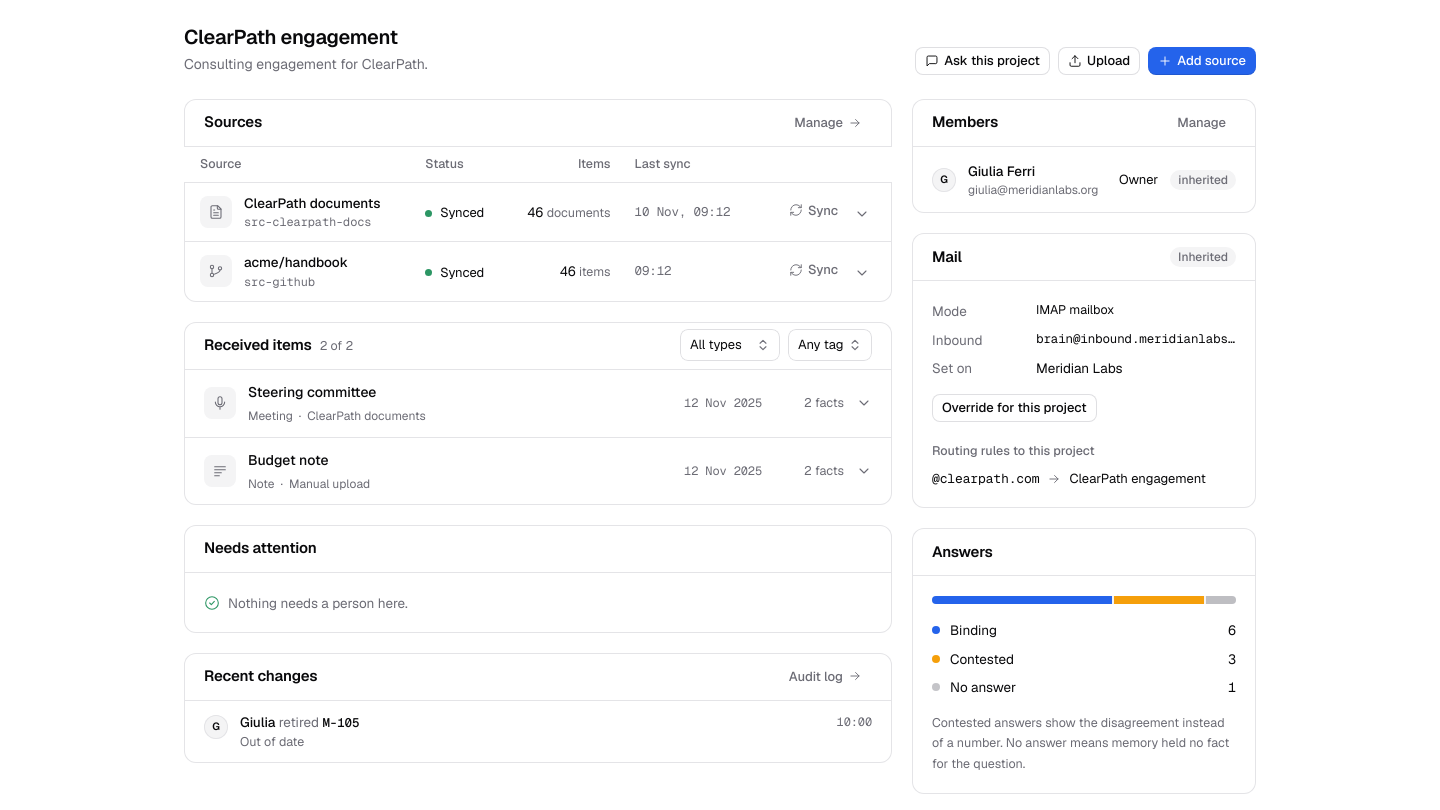
Test: Project › upload and add source › opens the add source dialog for the project, and closes it with Escape
expect the heading "ClearPath engagement" is shown: met, box [184,24,428,50]
expect the text "src-clearpath-docs" is shown: met, box [244,213,380,231]
Click the button "Add source". click: (1202, 61)
box: [1148,47,1256,75]
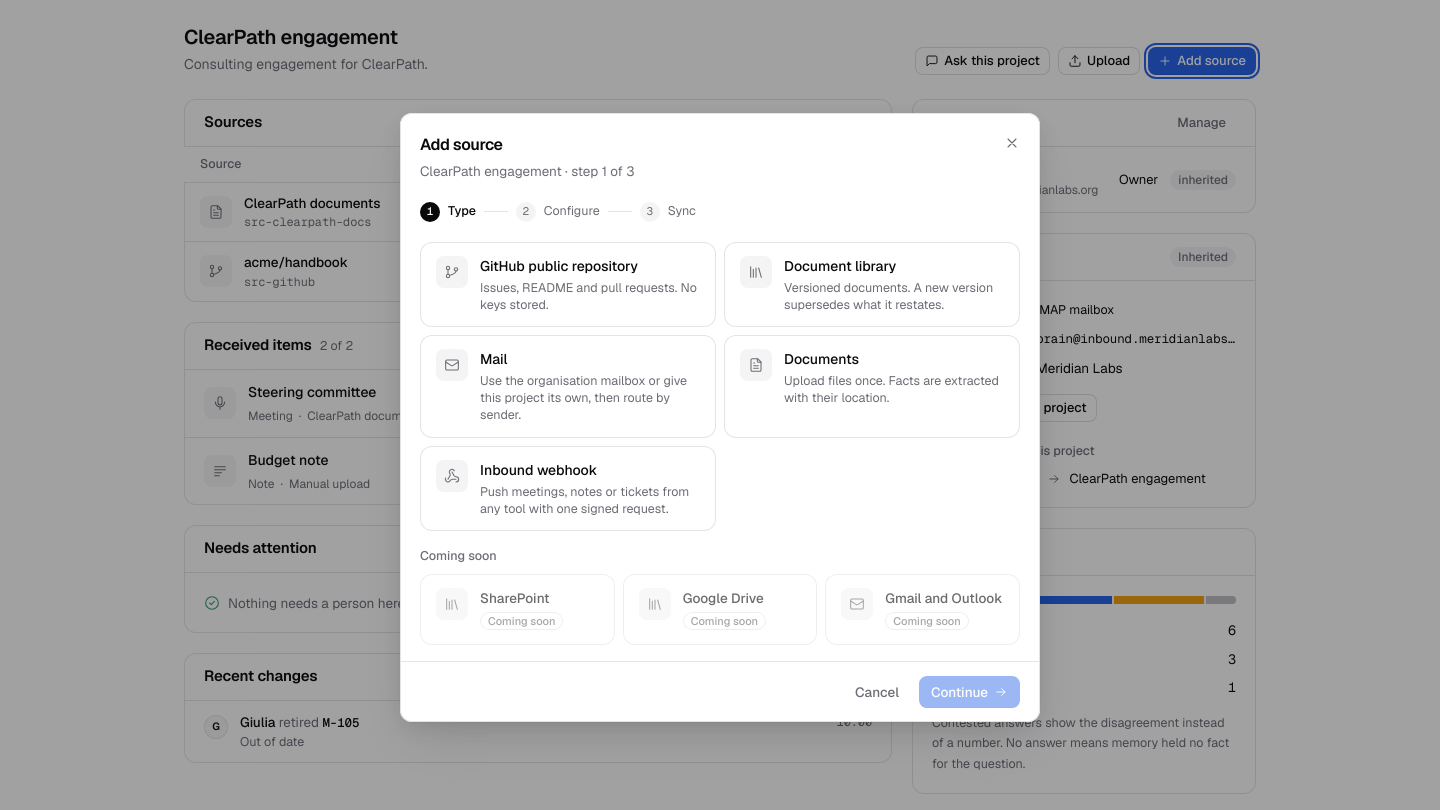
expect the heading "Add source" is shown: met, box [420,134,503,155]
expect the text "ClearPath engagement · step 1 of 3" is shown: met, box [420,162,634,180]
Press Escape
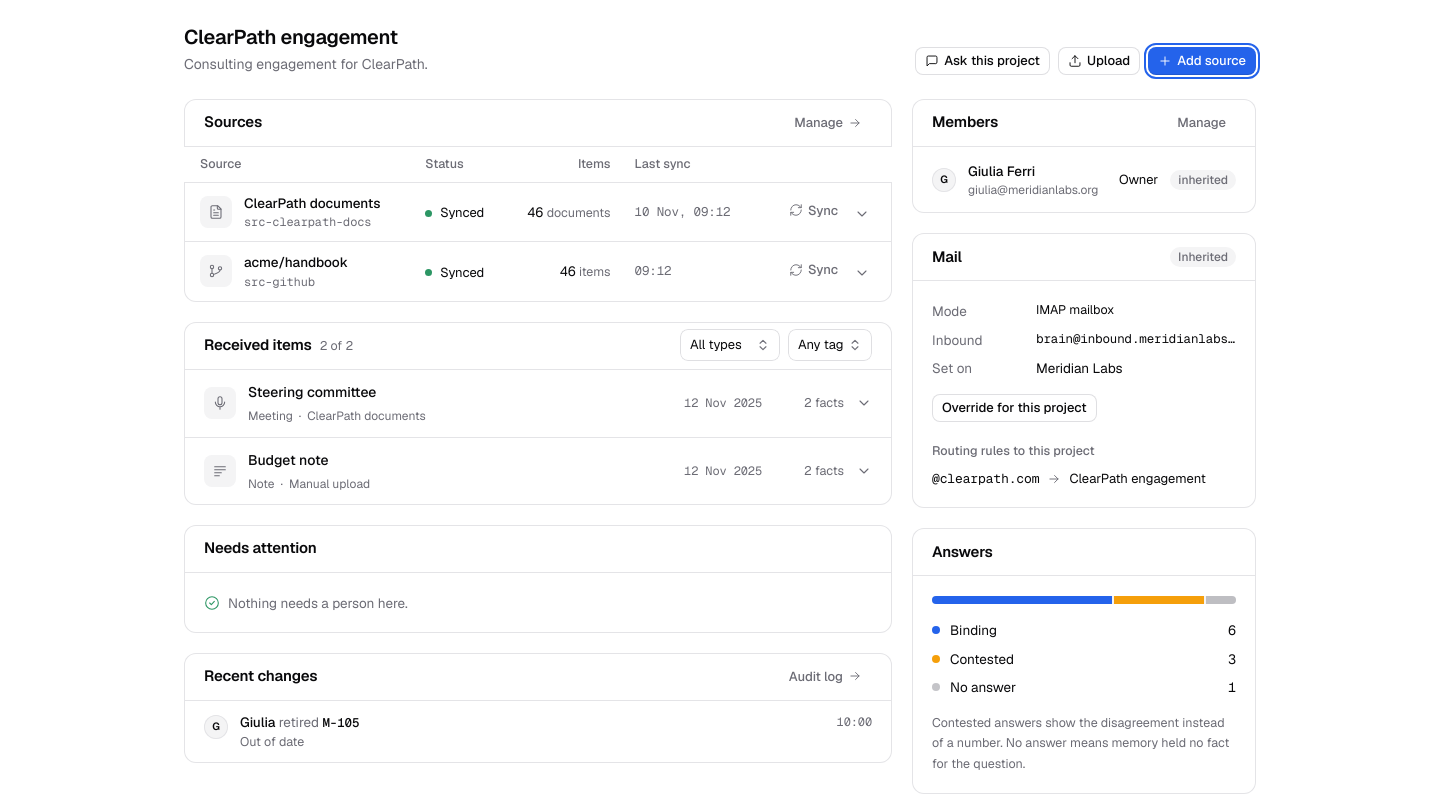
expect the dialog is gone: met
